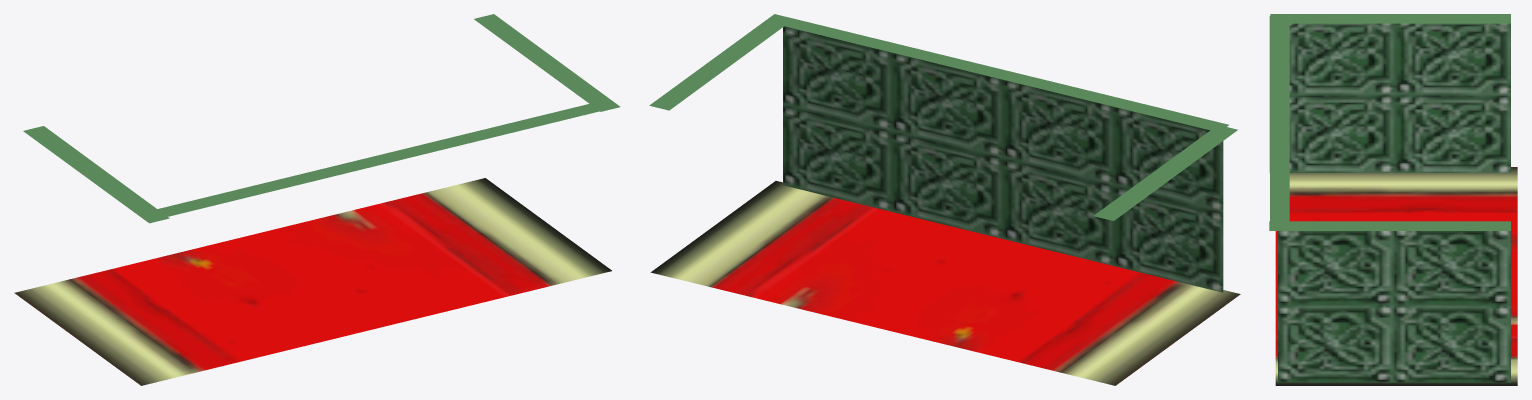
Rendered from TTreppeZiwschenteil_126.glb.
3 views of the same model, side by side, from view 1: azimuth 30°, elevation 25°; view 2: azimuth 150°, elevation 25°; view 3: azimuth 270°, elevation 25° (orthographic). The views are drawn at different scales.
Visible parts, largest first — view 1: pPlaneShape31, pPlaneShape28, pPlaneShape30, pPlaneShape29; view 2: pPlaneShape26, pPlaneShape31, pPlaneShape28, pPlaneShape30, pPlaneShape29; view 3: pPlaneShape27, pPlaneShape25, pPlaneShape31, pPlaneShape28, pPlaneShape29, pPlaneShape30.
Part boxes in pixels (left/top/right/bottom): pPlaneShape31: left=14, top=178, right=611, bottom=385; pPlaneShape28: left=149, top=102, right=604, bottom=218; pPlaneShape30: left=23, top=126, right=169, bottom=223; pPlaneShape29: left=474, top=14, right=620, bottom=111; pPlaneShape26: left=783, top=26, right=1223, bottom=292; pPlaneShape31: left=650, top=181, right=1240, bottom=385; pPlaneShape28: left=779, top=17, right=1228, bottom=132; pPlaneShape30: left=1094, top=127, right=1237, bottom=220; pPlaneShape29: left=649, top=14, right=788, bottom=110; pPlaneShape27: left=1278, top=231, right=1510, bottom=382; pPlaneShape25: left=1289, top=23, right=1510, bottom=172; pPlaneShape31: left=1275, top=167, right=1517, bottom=385; pPlaneShape28: left=1269, top=16, right=1289, bottom=223; pPlaneShape29: left=1269, top=221, right=1510, bottom=230; pPlaneShape30: left=1270, top=14, right=1510, bottom=23.
Bounding box in the file's own units: 0.4742 × 0.1588 × 0.2252.
Materials: 7 (4 with a texture image).
